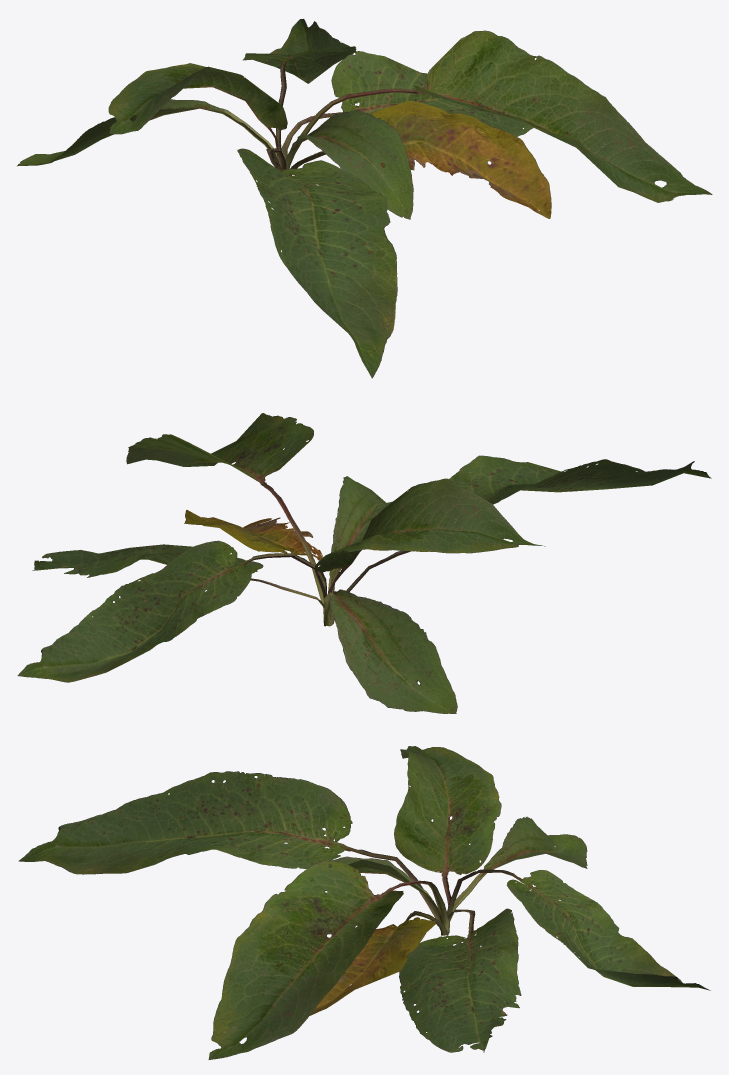
The model's file is weed_plant_02_a_LOD1.glb.
The picture shows the model from 3 angles, top to bottom: view 1: azimuth 30°, elevation 25°; view 2: azimuth 150°, elevation 25°; view 3: azimuth 270°, elevation 25°; orthographic projection. The views are drawn at different scales.
Visible parts, largest first — view 1: weed_plant_02_a_LOD1__lod0; view 2: weed_plant_02_a_LOD1__lod0; view 3: weed_plant_02_a_LOD1__lod0.
Boxes of the visible parts, x1,y1,x2,y2 form: weed_plant_02_a_LOD1__lod0: (17,19,712,378); weed_plant_02_a_LOD1__lod0: (17,413,711,713); weed_plant_02_a_LOD1__lod0: (18,746,710,1059).
Size of what is drawn, in the model's own units: 0.2194 by 0.0725 by 0.2909.
Materials: 1 (1 with a texture image).
